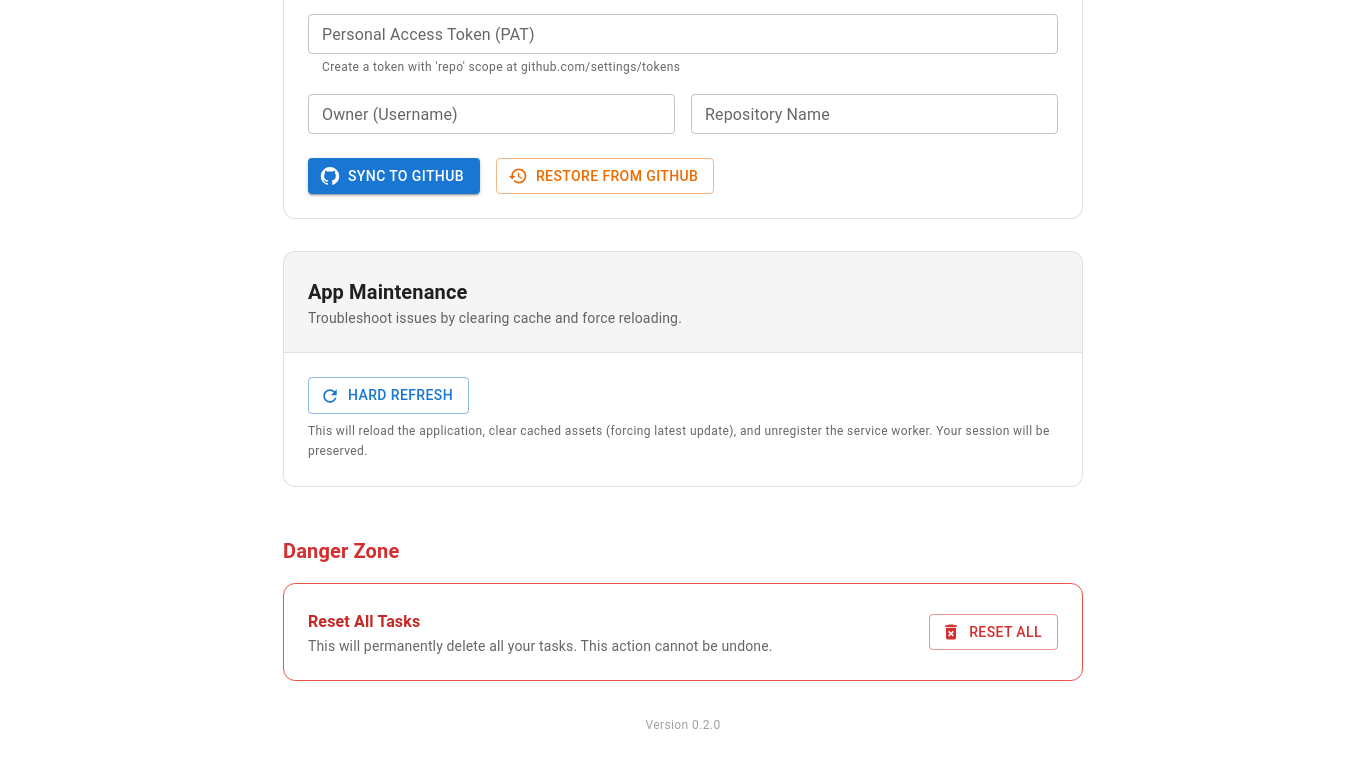
Test case: Settings Component › opens confirmation dialog when Reset All is clicked
This screenshot has width=1366, height=768.
(page scrolled)
# Find Danger Zone button
Click the button "Reset All": [994, 632] box [929,614,1058,650]
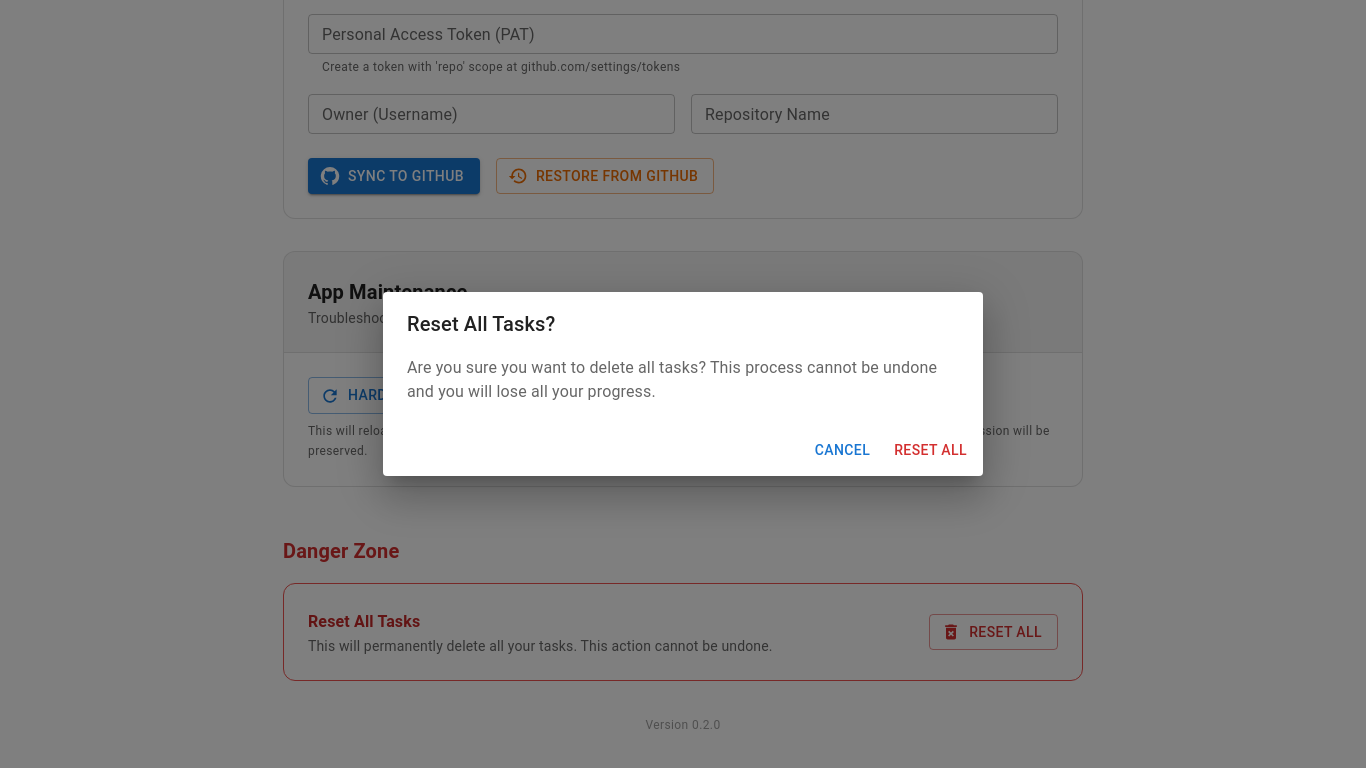
expect the heading "Reset All Tasks?" is shown: met, box [407,312,556,336]
expect the text "Are you sure you want to delete all tasks" is shown: met, box [407,358,937,401]
